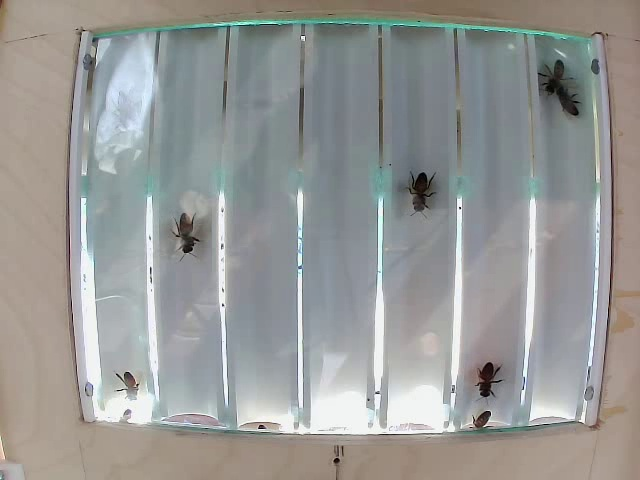bee: (469, 355, 500, 392), (409, 167, 432, 213), (169, 215, 200, 249), (542, 57, 570, 93), (553, 85, 574, 118), (116, 369, 147, 391)
